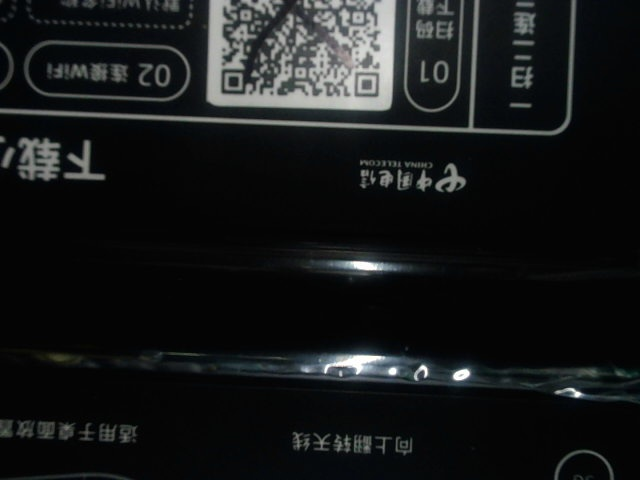AB_ChinaTelecom: (353, 154, 469, 200)
